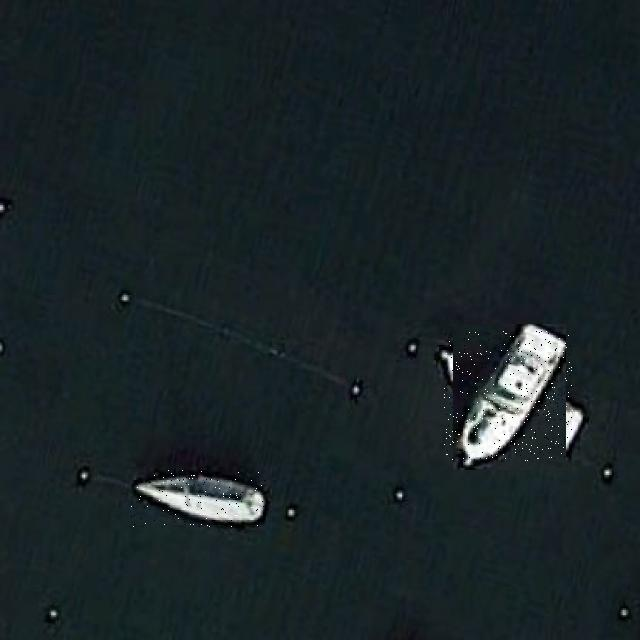boat: (444, 331, 574, 462), (131, 470, 266, 527)
